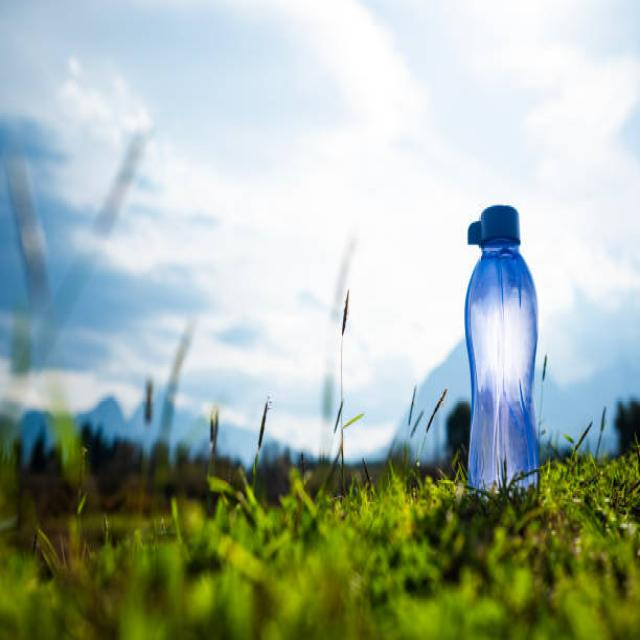blue_bottle: (459, 196, 546, 494)
